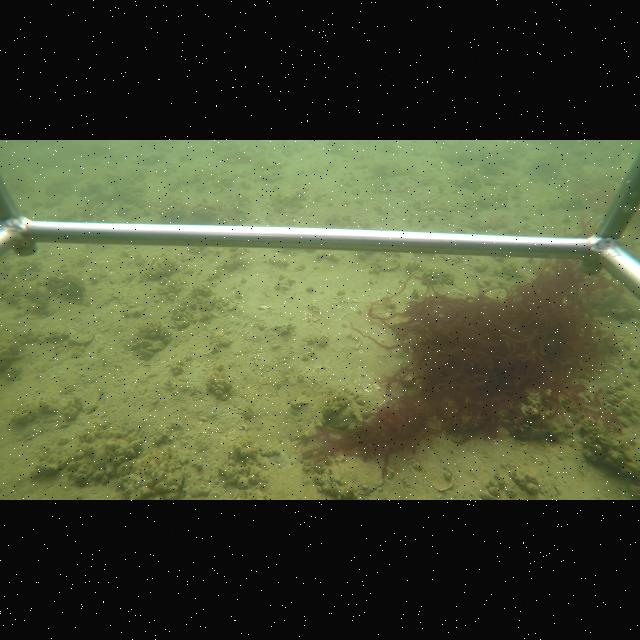Oyster-Closed: (320, 455, 388, 497), (68, 332, 97, 346)
